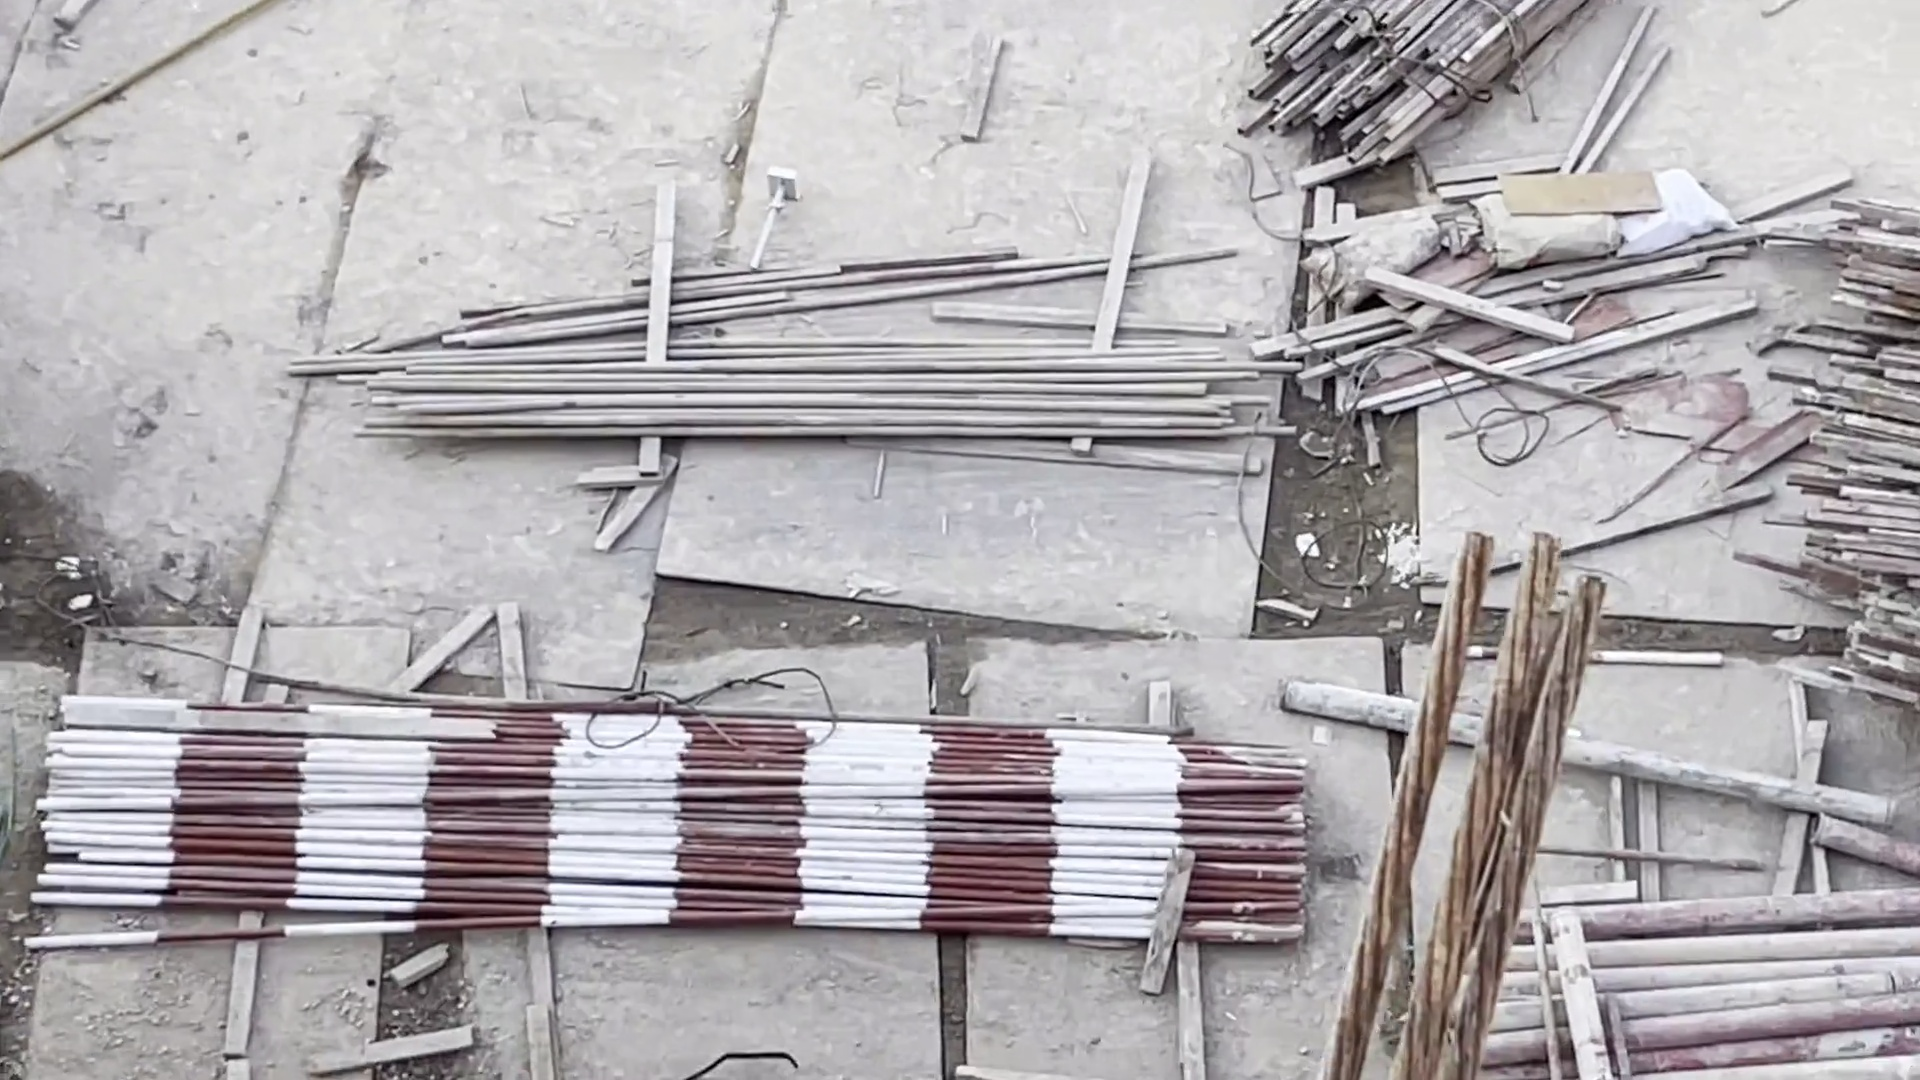scaffold: (1491, 884, 1920, 1075)
